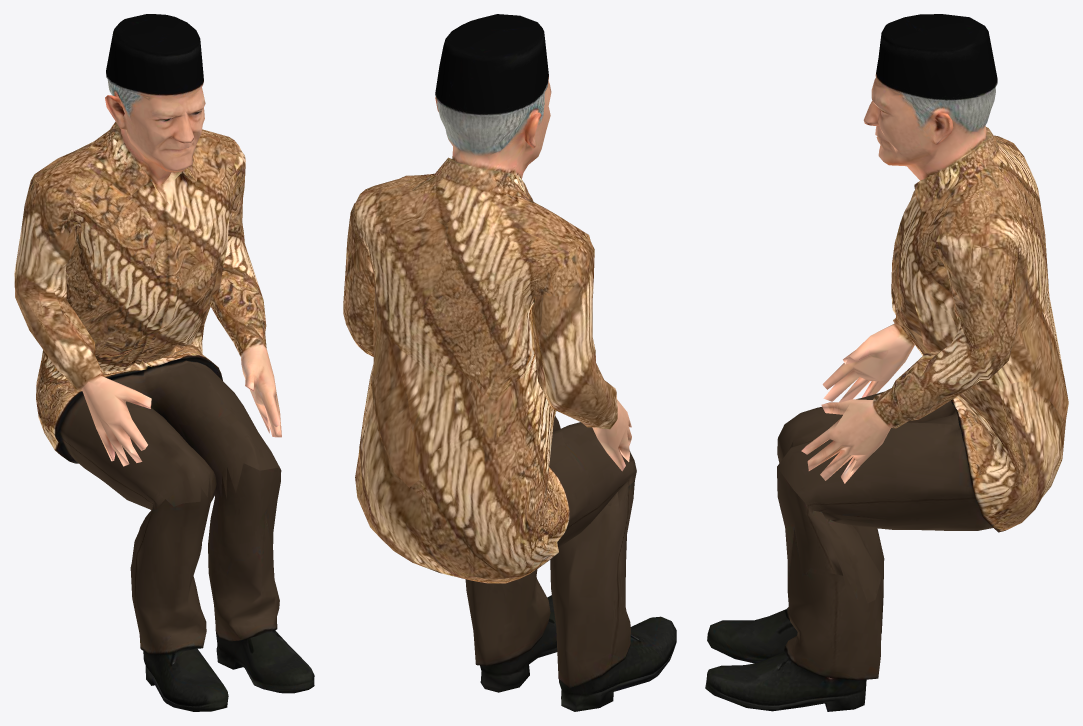
File: fan_uncle_sit.glb
The picture shows the model from 3 angles, left to right: view 1: azimuth 30°, elevation 25°; view 2: azimuth 150°, elevation 25°; view 3: azimuth 270°, elevation 25°; orthographic projection. The views are drawn at different scales.
Visible parts, largest first — view 1: char1; view 2: char1; view 3: char1.
Part boxes in pixels (box(x1,y1,x2,y2)): char1: box(14, 14, 314, 711); char1: box(343, 14, 676, 711); char1: box(705, 14, 1068, 711).
Bounding box in the file's own units: 0.4888 × 1.28 × 0.6462.
1 material, 1 textured.
